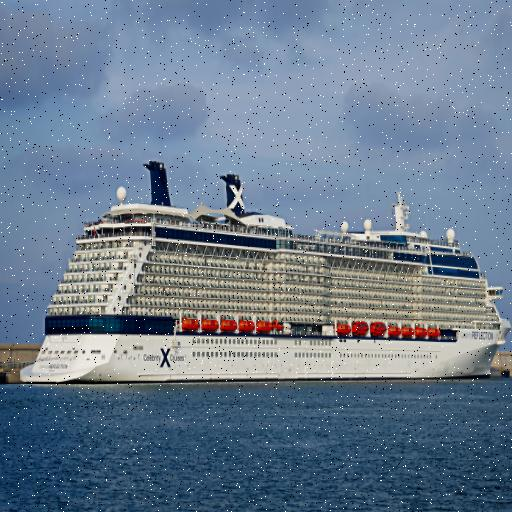cruises: (17, 159, 512, 390)
